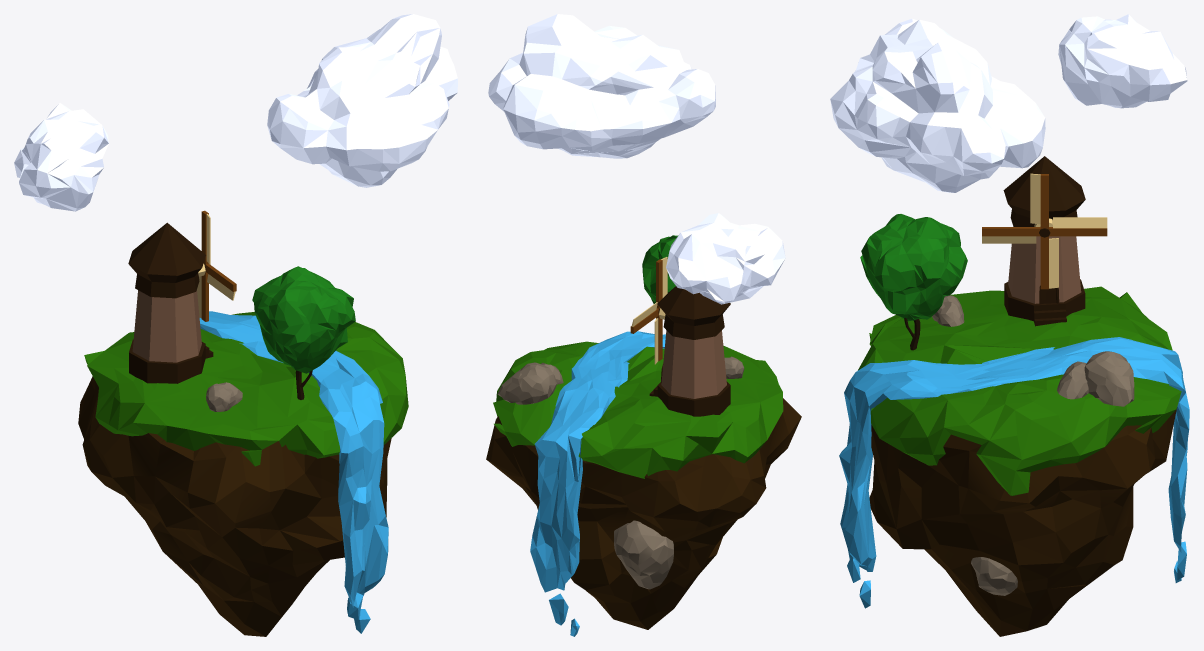
The model's file is Tiny3D.fbx.
The picture shows the model from 3 angles, left to right: view 1: azimuth 30°, elevation 25°; view 2: azimuth 150°, elevation 25°; view 3: azimuth 270°, elevation 25°; orthographic projection. The views are drawn at different scales.
Parts seen in each view (by area): view 1: Ground, Grass, Cloud, Water, Tree, Cloud1, WindmillBuilding, WindmillBuilding1, WindmillBuilding2, Windmill_1, Rock2, Windmill7; view 2: Cloud, Ground, Grass, Water, Cloud1, WindmillBuilding, Rock1, WindmillBuilding1, Rock4, WindmillBuilding2, Tree, Windmill_1 (+1 smaller); view 3: Ground, Grass, Cloud, Water, Cloud1, Tree, WindmillBuilding, WindmillBuilding1, Rock4, Windmill7, Windmill_1, WindmillBuilding2 (+3 smaller).
Boxes of the visible parts, x1,y1,x2,y2 form: Ground: (78,376,391,636); Grass: (84,312,408,466); Cloud: (267,14,457,187); Water: (199,311,388,633); Tree: (252,266,355,373); Cloud1: (14,103,108,211); WindmillBuilding: (132,290,201,362); WindmillBuilding1: (128,222,205,298); WindmillBuilding2: (129,339,205,383); Windmill_1: (201,210,236,321); Rock2: (206,382,242,411); Windmill7: (197,214,235,318); Cloud: (488,14,715,158); Ground: (486,398,801,629); Grass: (493,341,783,478); Water: (530,331,665,636); Cloud1: (666,213,785,304); WindmillBuilding: (661,330,726,398); Rock1: (614,520,673,589); WindmillBuilding1: (657,286,730,339); Rock4: (497,362,556,404); WindmillBuilding2: (657,381,730,416); Tree: (642,235,677,303); Windmill_1: (630,259,662,361); Ground: (869,408,1176,636); Grass: (858,286,1181,495); Cloud: (830,18,1045,192); Water: (839,337,1189,608); Cloud1: (1058,14,1187,108); Tree: (860,214,967,321); WindmillBuilding: (1008,236,1081,303); WindmillBuilding1: (1003,156,1085,226); Rock4: (1084,351,1134,406); Windmill7: (982,173,1107,288); Windmill_1: (982,174,1107,289); WindmillBuilding2: (1004,279,1085,321).
Bounding box in the file's own units: 178 × 284 × 142.
